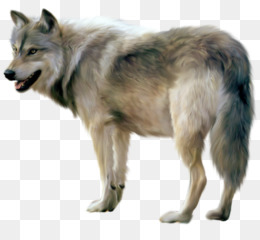Lobo: (1, 6, 249, 218)
